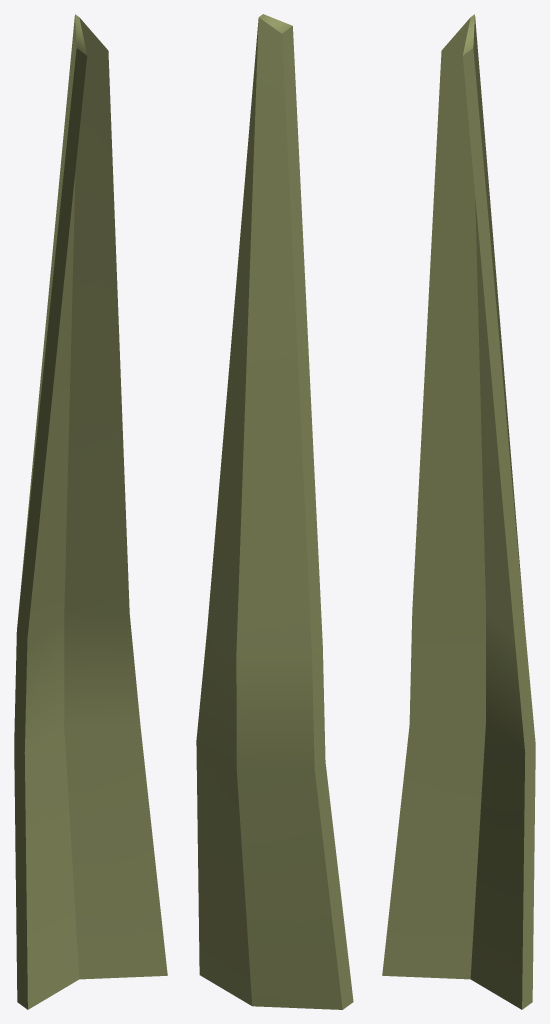
File: SM_Grass_Blade_04.fbx
3 renders of one model, left to right at view 1: azimuth 30°, elevation 25°; view 2: azimuth 150°, elevation 25°; view 3: azimuth 330°, elevation 25°, orthographic. The views are drawn at different scales.
Parts seen in each view (by area): view 1: SM_Grass_Blade_04; view 2: SM_Grass_Blade_04; view 3: SM_Grass_Blade_04.
Boxes of the visible parts, bbox=[...] form: SM_Grass_Blade_04: bbox=[14, 14, 167, 1009]; SM_Grass_Blade_04: bbox=[196, 14, 353, 1009]; SM_Grass_Blade_04: bbox=[382, 14, 535, 1009].
Size of the model in its own units: 13.21 by 86.87 by 7.25.
